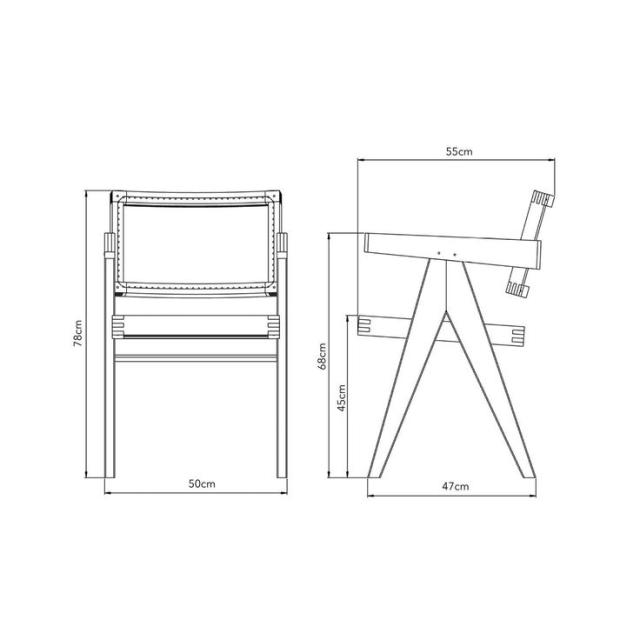Armrest: (359, 226, 551, 278)
Backrest: (106, 184, 286, 304), (498, 184, 565, 304)
Leg_Structure: (357, 252, 547, 485), (100, 304, 295, 483)
Seat: (352, 308, 531, 353), (108, 308, 284, 345)
